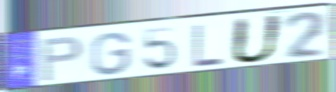2: (282, 10, 329, 62)
5: (140, 25, 179, 72)
G: (89, 31, 133, 77)
L: (192, 22, 225, 68)
P: (40, 34, 85, 84)
U: (229, 13, 285, 66)
